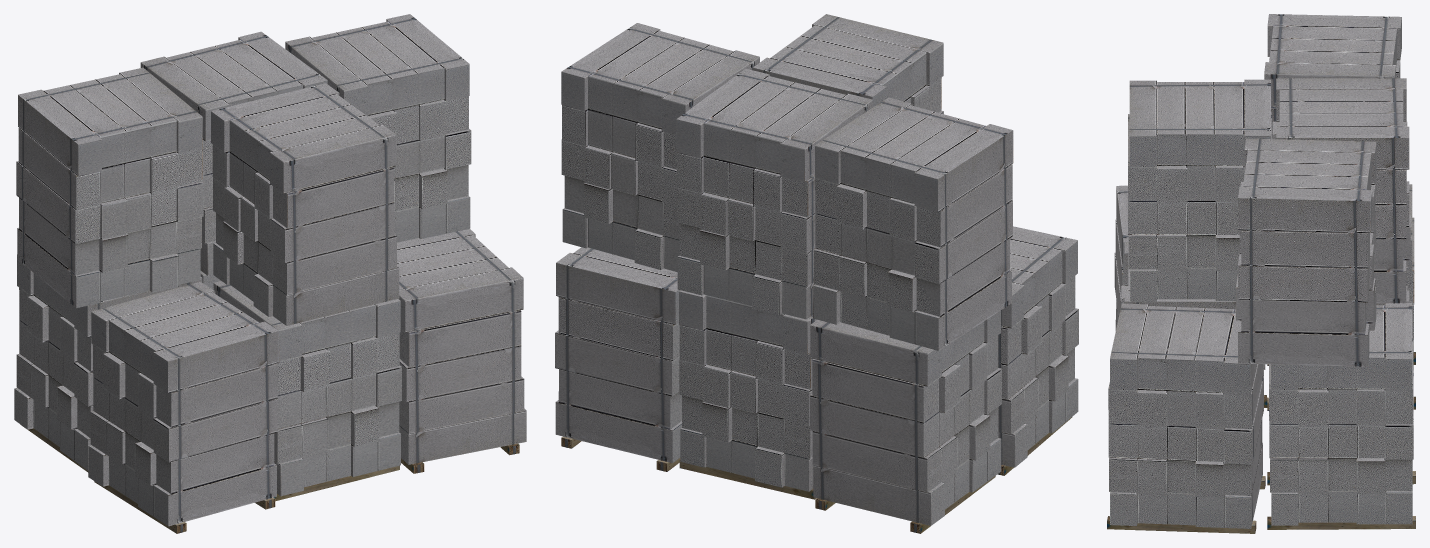
Rendered from concrete_blocks.FBX.
3 views of the same model, side by side, from view 1: azimuth 30°, elevation 25°; view 2: azimuth 150°, elevation 25°; view 3: azimuth 270°, elevation 25° (orthographic). The views are drawn at different scales.
Visible parts, largest first — view 1: Object04; view 2: Object04; view 3: Object04.
Part boxes in pixels (x1,y1,x2,y2): Object04: (14, 14, 526, 533); Object04: (555, 14, 1078, 533); Object04: (1107, 14, 1415, 533).
Size of the model in its own units: 280 by 194 by 235.
1 material, 1 textured.
